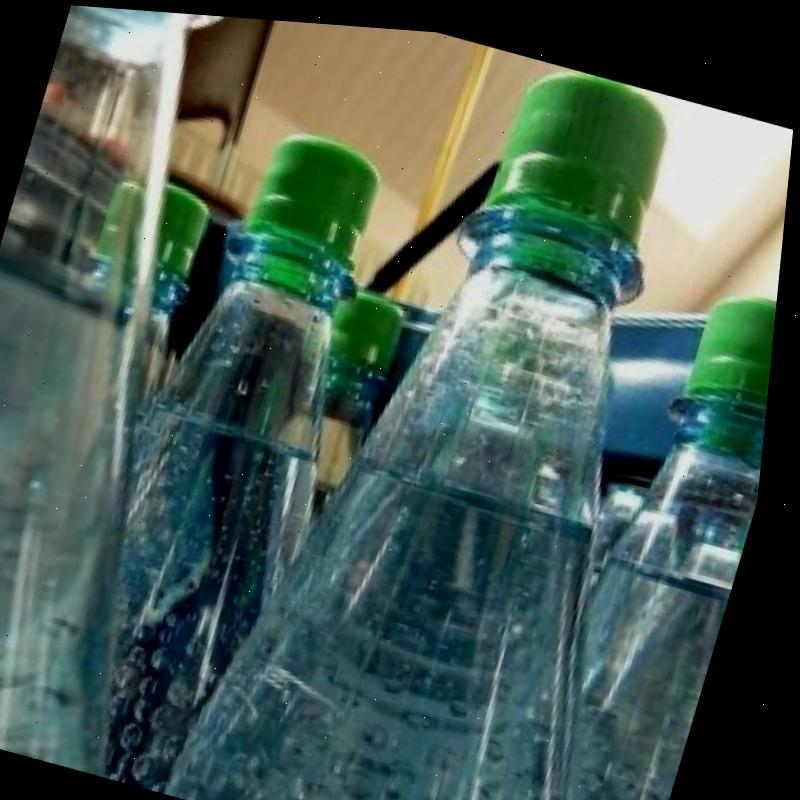botella: (174, 14, 799, 800), (51, 104, 422, 800), (0, 0, 320, 781), (518, 257, 783, 800), (260, 272, 419, 523), (62, 169, 219, 417)
